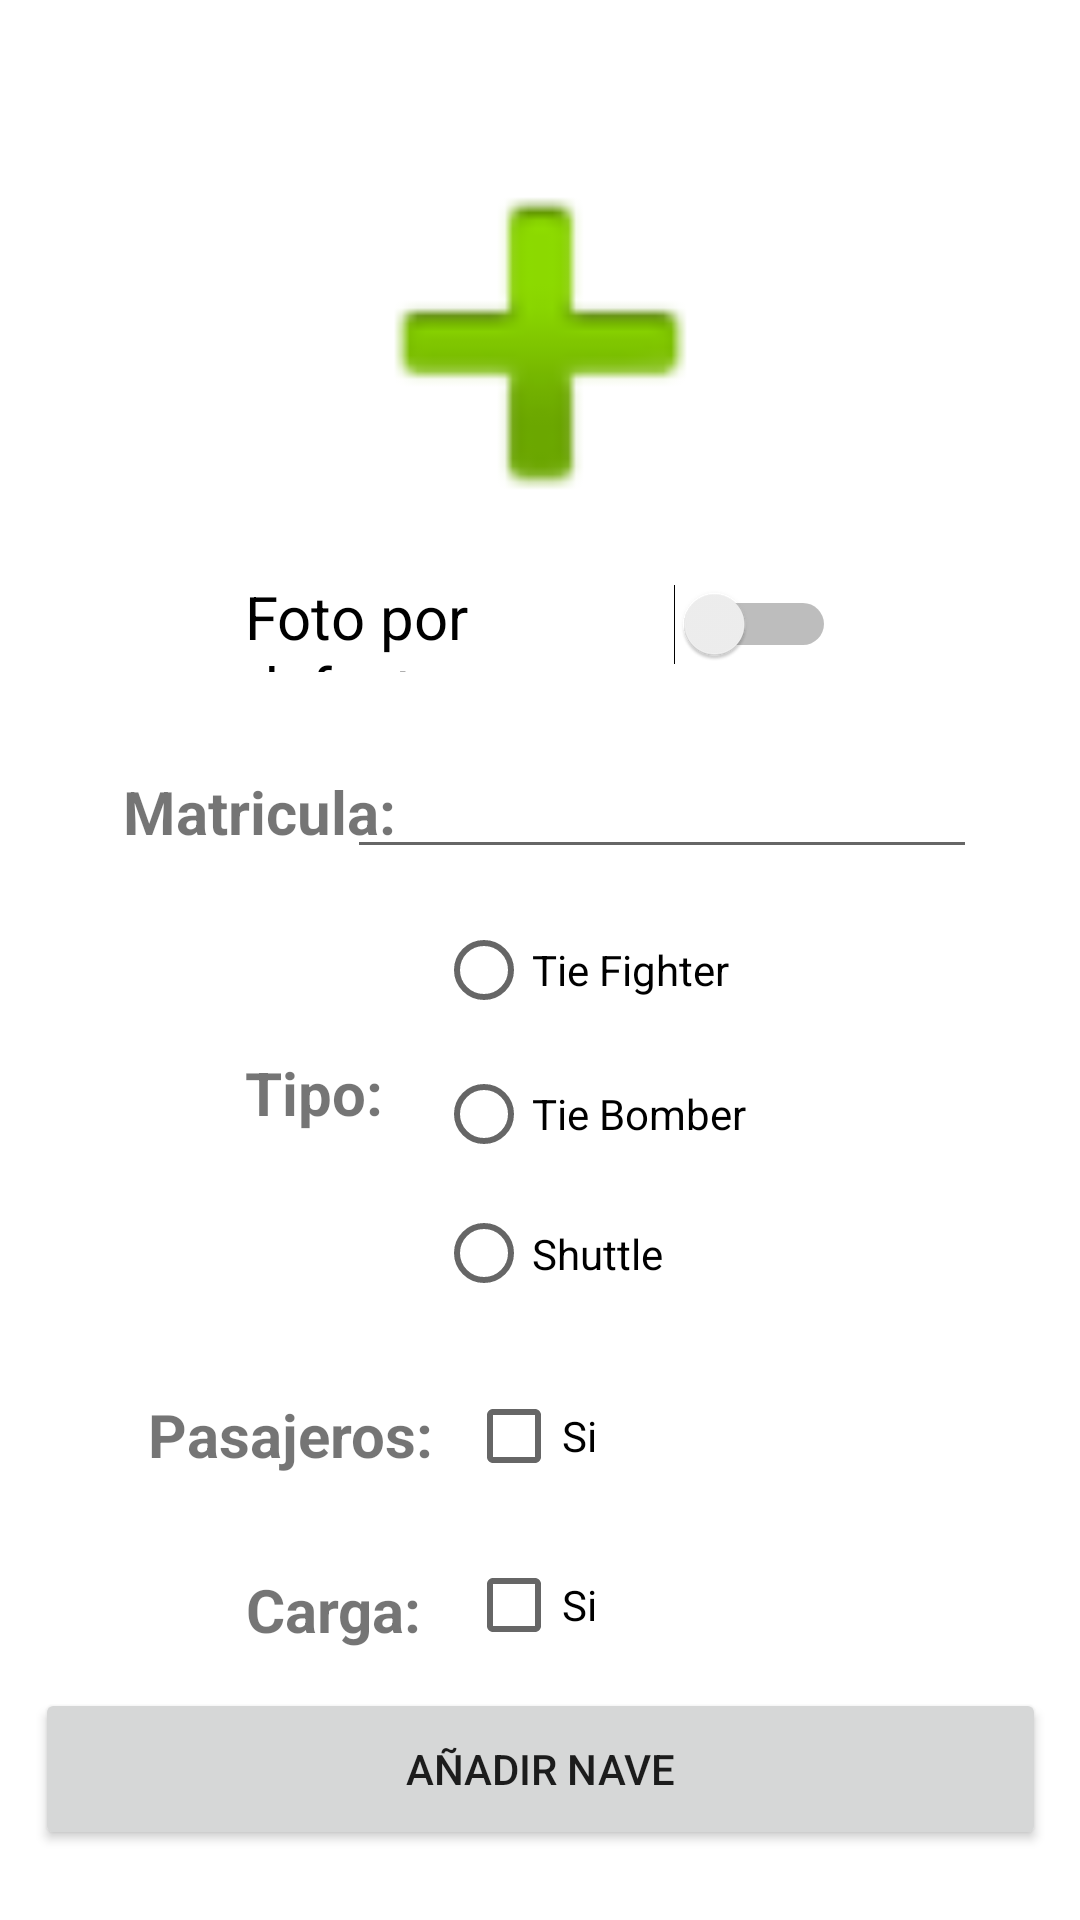

Screen size 1080 × 1920. Icon name, then its box in pixels as (x1, y1, x2, y2):
add: (396, 199, 685, 487)
